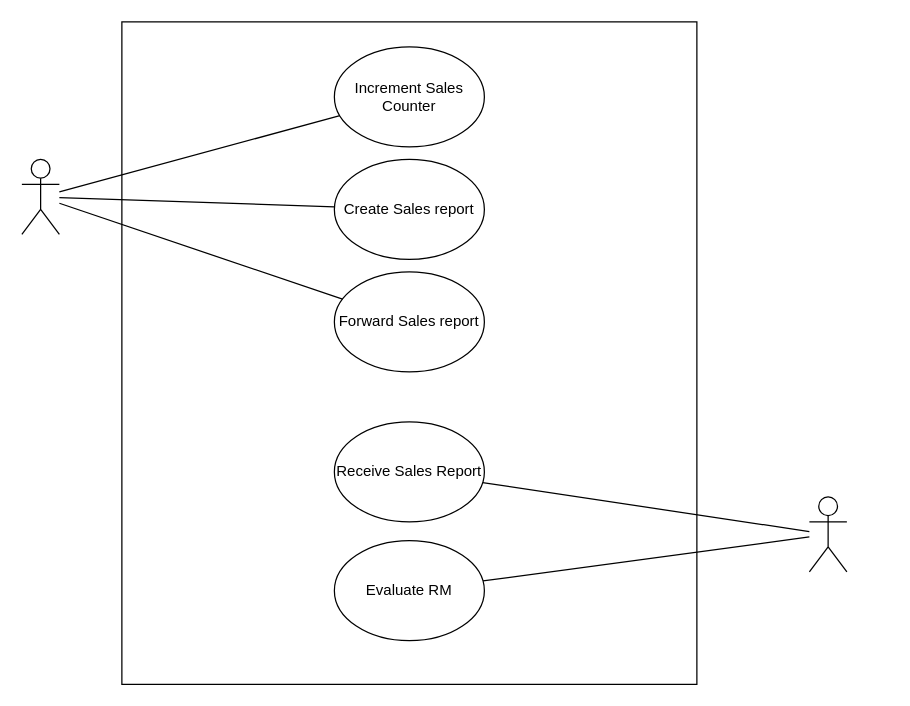
Some shapes in this 910 by 706 pixel diagram are drawn without their labels. The shapes that lost their labels are listed below. From the top down, each one's box as (x1, y1, x2, y2) in pixels, then its label:
(21, 158, 59, 234): RM
(808, 496, 847, 572): Board of Directors
